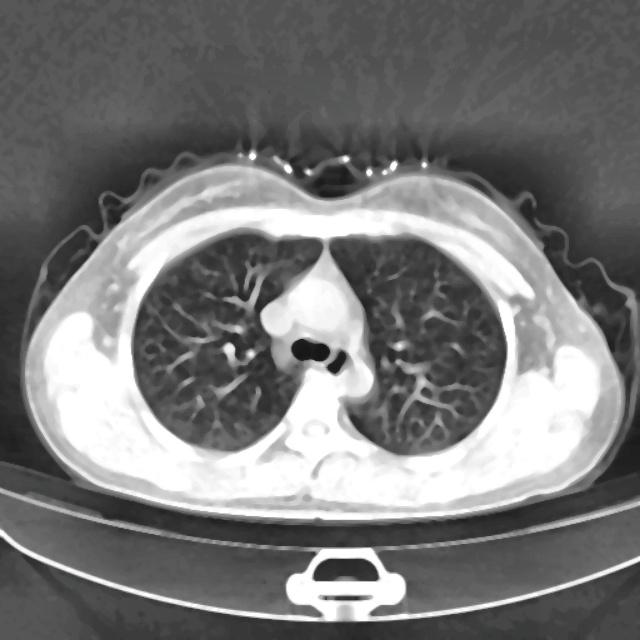covid: (20, 143, 631, 524)
